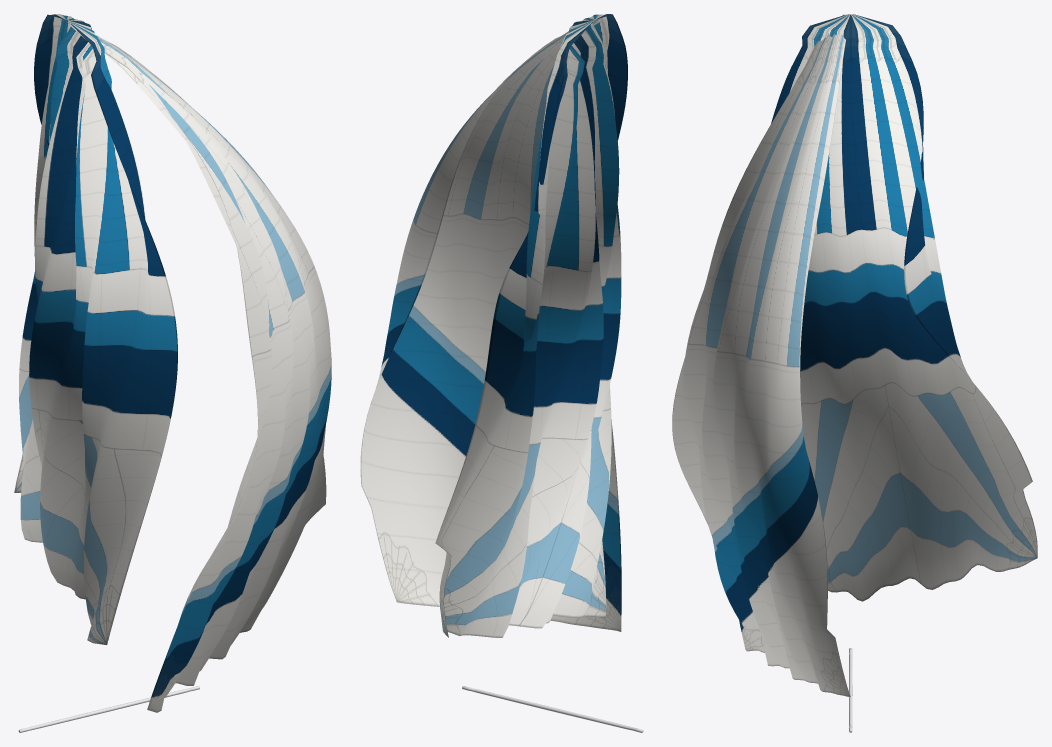
File: kites.glb
3 views of the same model, side by side, from view 1: azimuth 30°, elevation 25°; view 2: azimuth 150°, elevation 25°; view 3: azimuth 270°, elevation 25° (orthographic). The views are drawn at different scales.
Visible parts, largest first — view 1: Spinnaker, Gennaker, SpinnakerPole; view 2: Spinnaker, Gennaker, SpinnakerPole; view 3: Spinnaker, Gennaker.
Boxes of the visible parts, x1,y1,x2,y2 form: Spinnaker: (14,14,177,644); Gennaker: (68,21,331,712); SpinnakerPole: (18,686,199,732); Spinnaker: (435,14,627,637); Gennaker: (360,19,621,631); SpinnakerPole: (462,686,643,732); Spinnaker: (771,14,1037,601); Gennaker: (672,14,850,696).
Bounding box in the file's own units: 12.04 × 27.38 × 13.77.
Materials: 3 (2 with a texture image).
